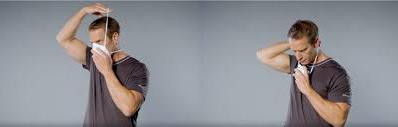mask_weared_incorrect: (291, 41, 310, 70)
with_mask: (88, 35, 114, 58)
